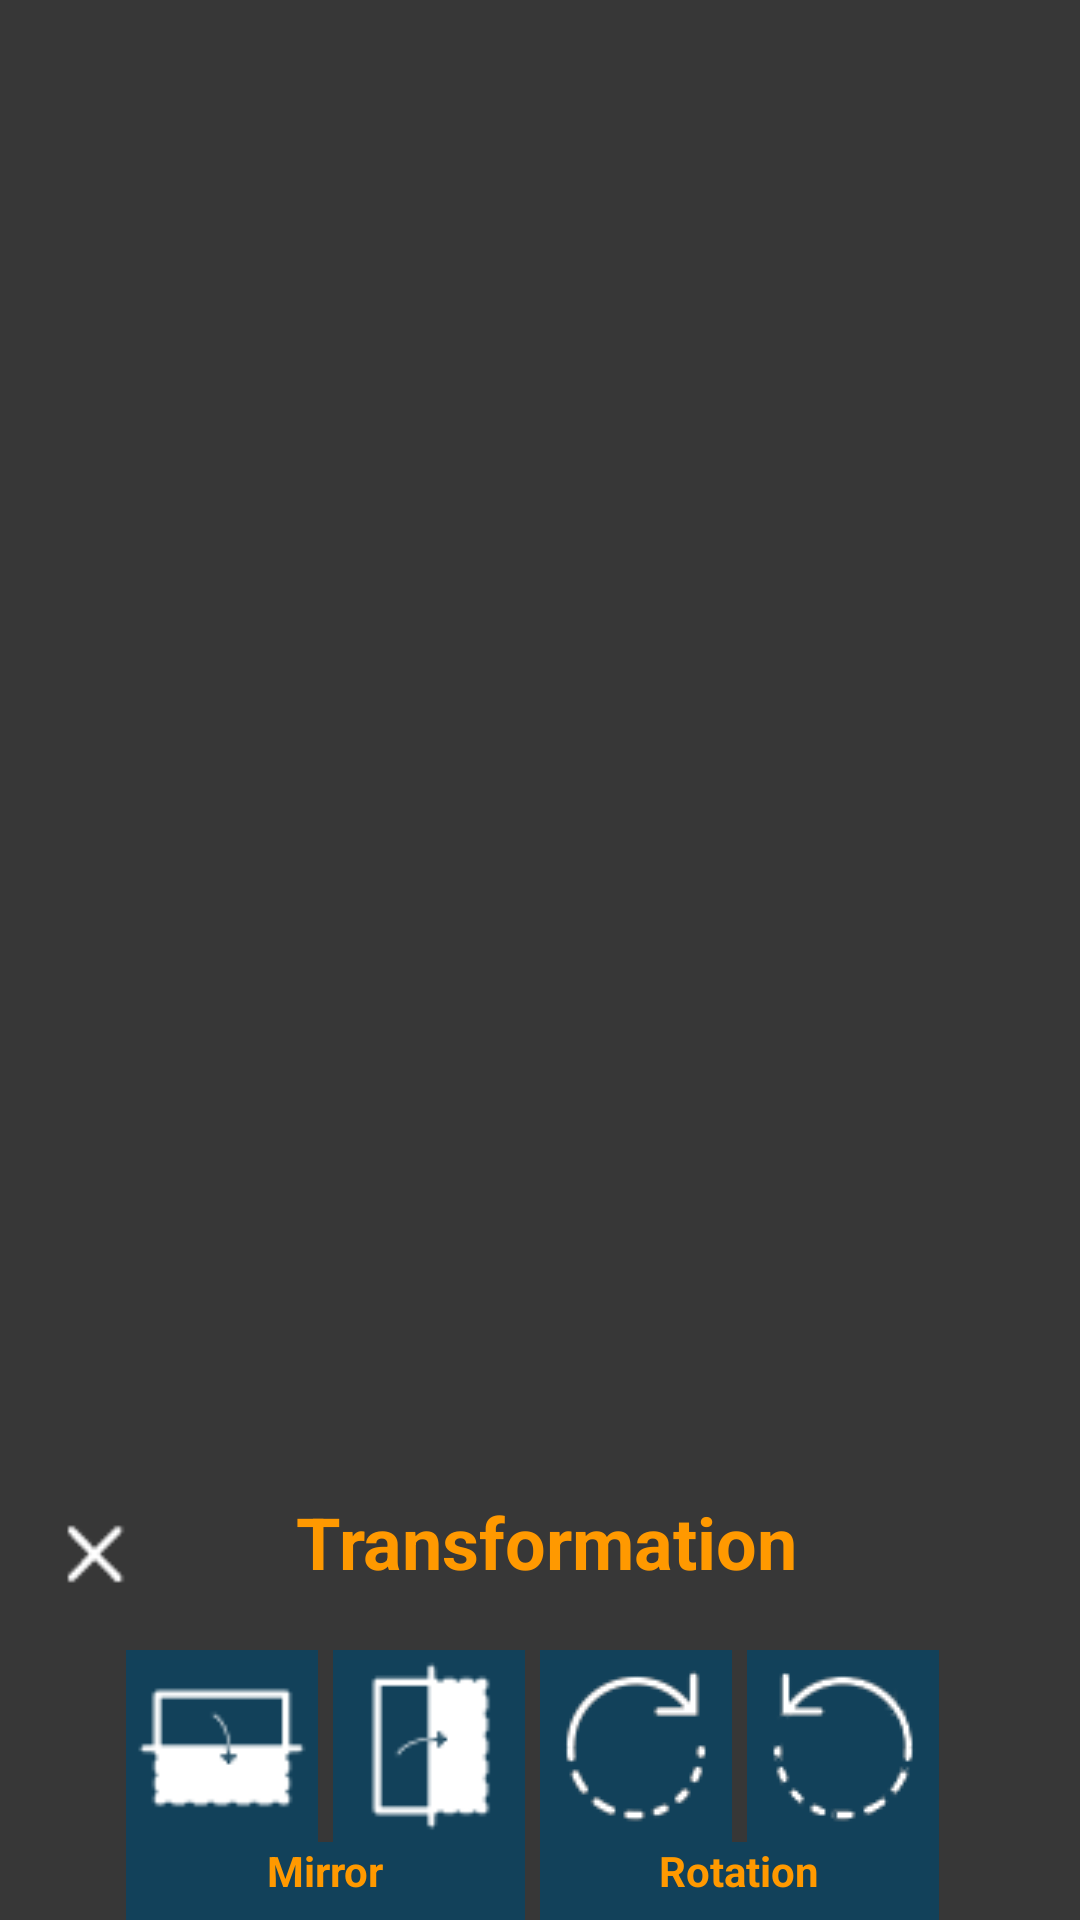

Screen size 1080 x 1920. Icon name, then its center in pixels as (x,y):
annuler: (95,1554)
inverser: (430,1746), (222,1747)
